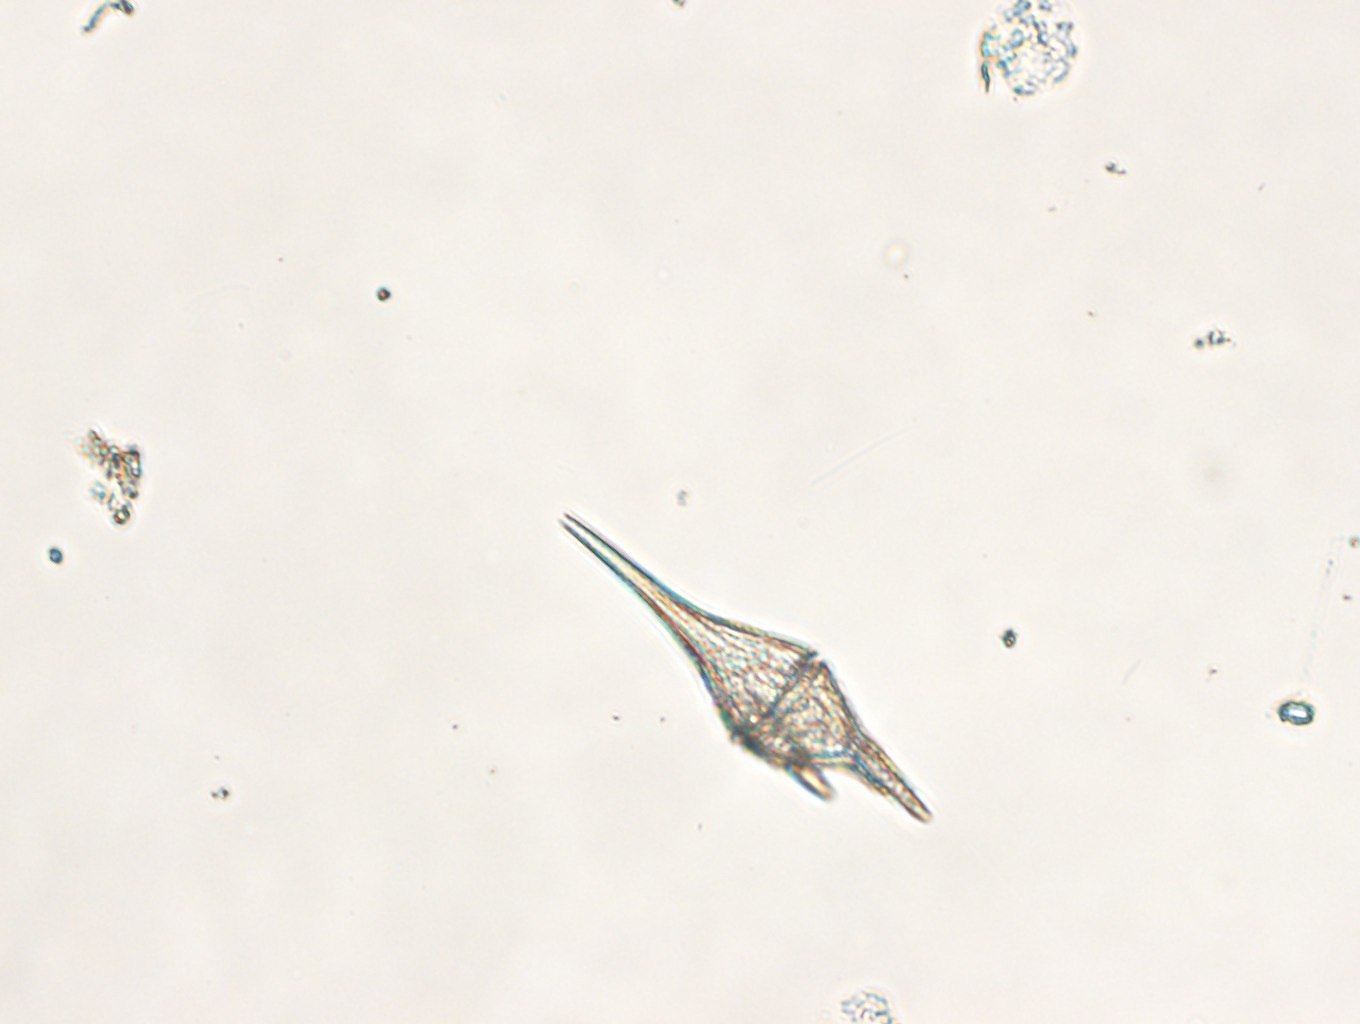ceratium furca: (558, 510, 933, 827)
